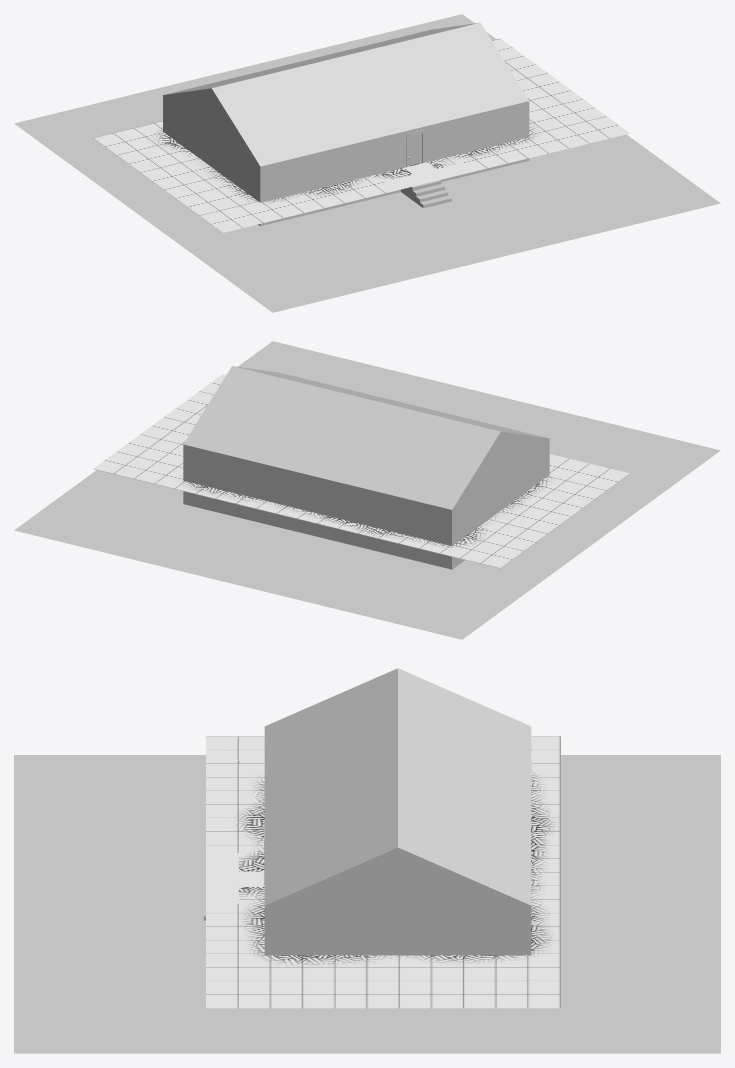
Rendered from HouseMK2.fbx.
The picture shows the model from 3 angles, top to bottom: view 1: azimuth 30°, elevation 25°; view 2: azimuth 150°, elevation 25°; view 3: azimuth 270°, elevation 25°; orthographic projection. The views are drawn at different scales.
Parts seen in each view (by area): view 1: Ground, Exterior, NewLayout-01; view 2: Ground, Exterior, NewLayout-01; view 3: Ground, Exterior, NewLayout-01.
Boxes of the visible parts, x1,y1,x2,y2 form: Ground: (14,14,720,312); Exterior: (163,22,529,226); NewLayout-01: (93,38,629,232); Ground: (14,341,720,639); Exterior: (183,366,549,569); NewLayout-01: (93,374,629,568); Ground: (14,755,720,1053); Exterior: (203,668,531,955); NewLayout-01: (206,736,560,1008).
Bounding box in the file's own units: 2200 × 520 × 2200.
